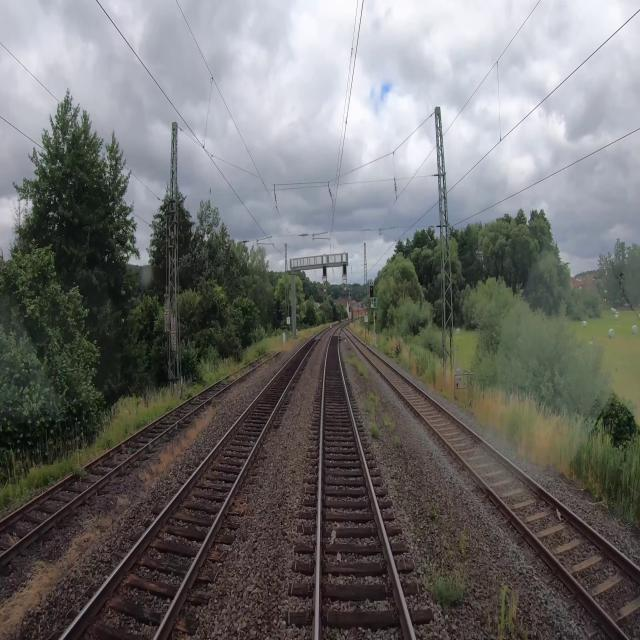Plant: (0, 347, 268, 520), (0, 492, 134, 639), (139, 402, 221, 489), (488, 584, 529, 639), (427, 569, 473, 599), (366, 393, 395, 430), (346, 355, 368, 376), (370, 422, 381, 438), (427, 505, 439, 518), (460, 531, 465, 551), (394, 433, 400, 444)
